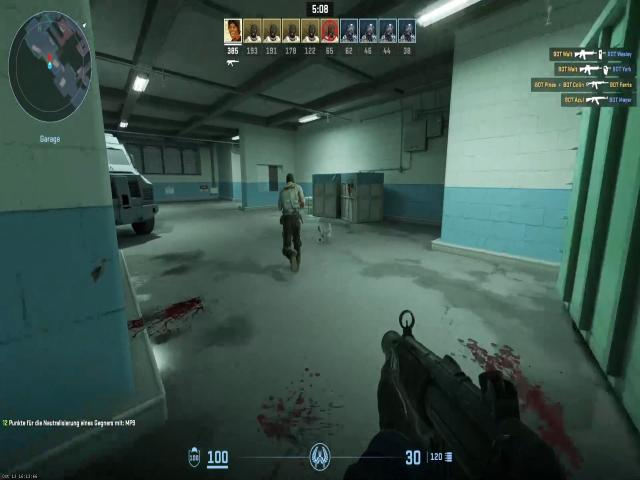T: (278, 174, 306, 226)
T-Head: (281, 173, 300, 196)
